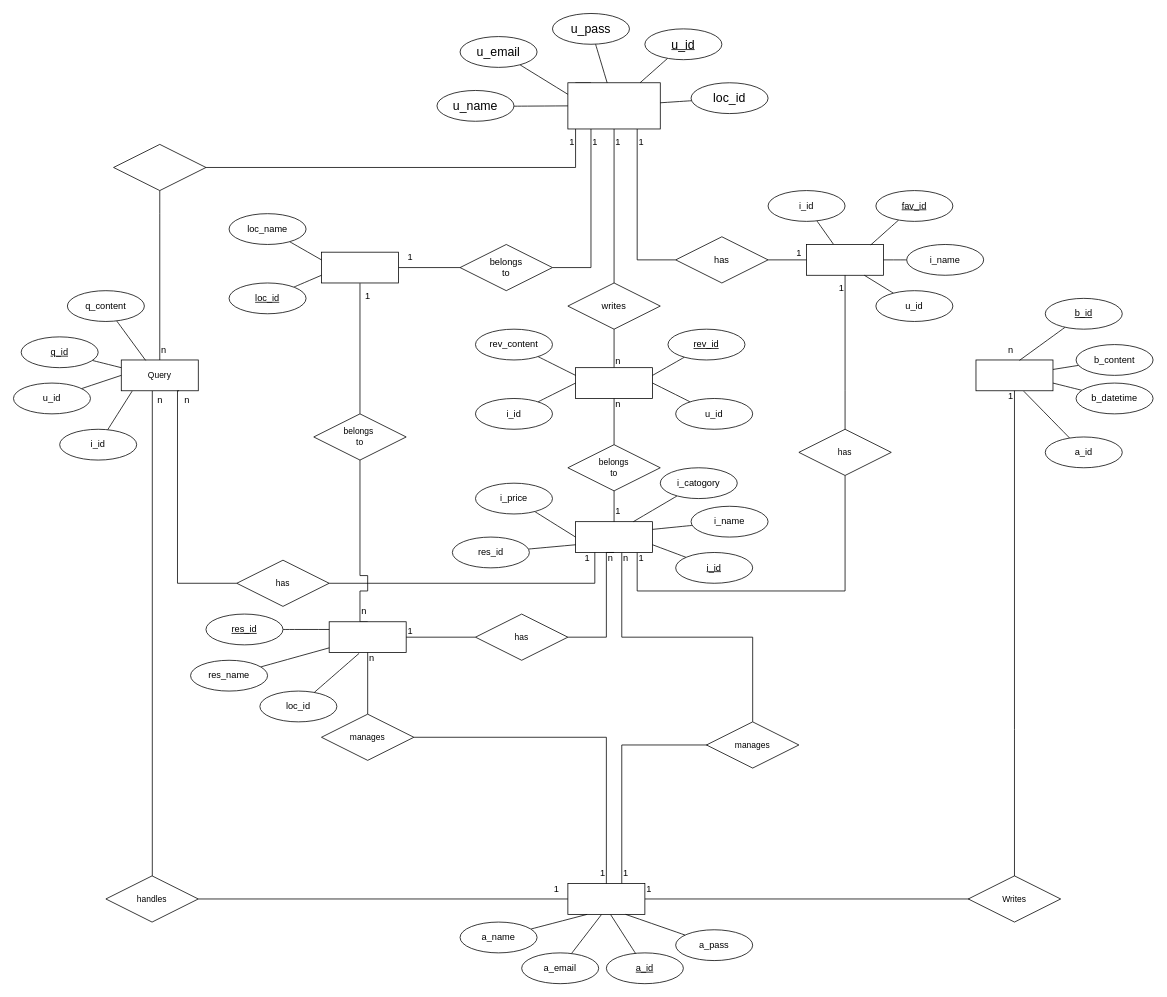
The diagram is 1167 pixels wide and 997 high, and some of its shapes have lost their labels. The shapes that lost their labels are listed below. From the top down, each one's box as (x1, y1, x2, y2) in pixels, then its label:
(567, 82, 660, 129): User
(113, 144, 206, 191): submits
(321, 251, 398, 283): Location
(806, 244, 884, 275): Favourite
(575, 367, 653, 398): Review
(975, 359, 1053, 391): Blog
(575, 521, 653, 552): Item
(328, 621, 406, 653): Restaurant
(567, 883, 645, 914): Admin
